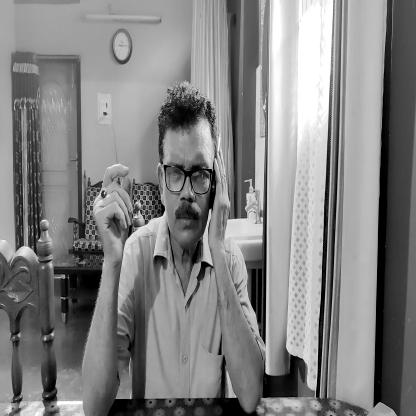Normal: (155, 86, 218, 252)
